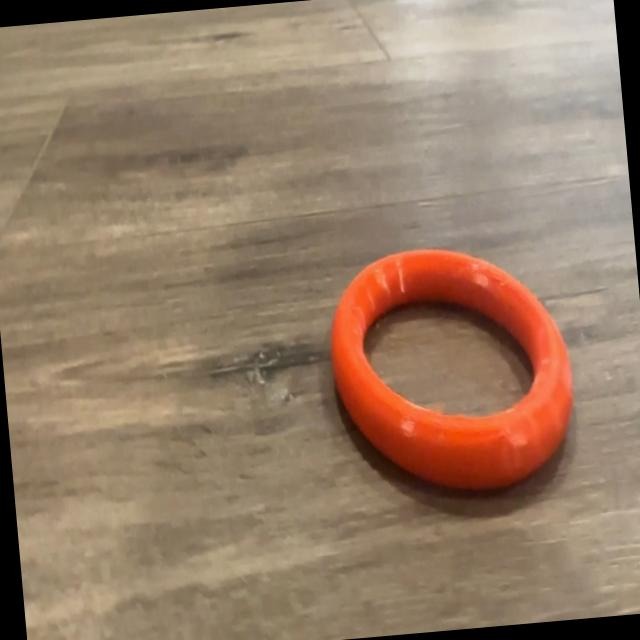note: (322, 234, 583, 511)
